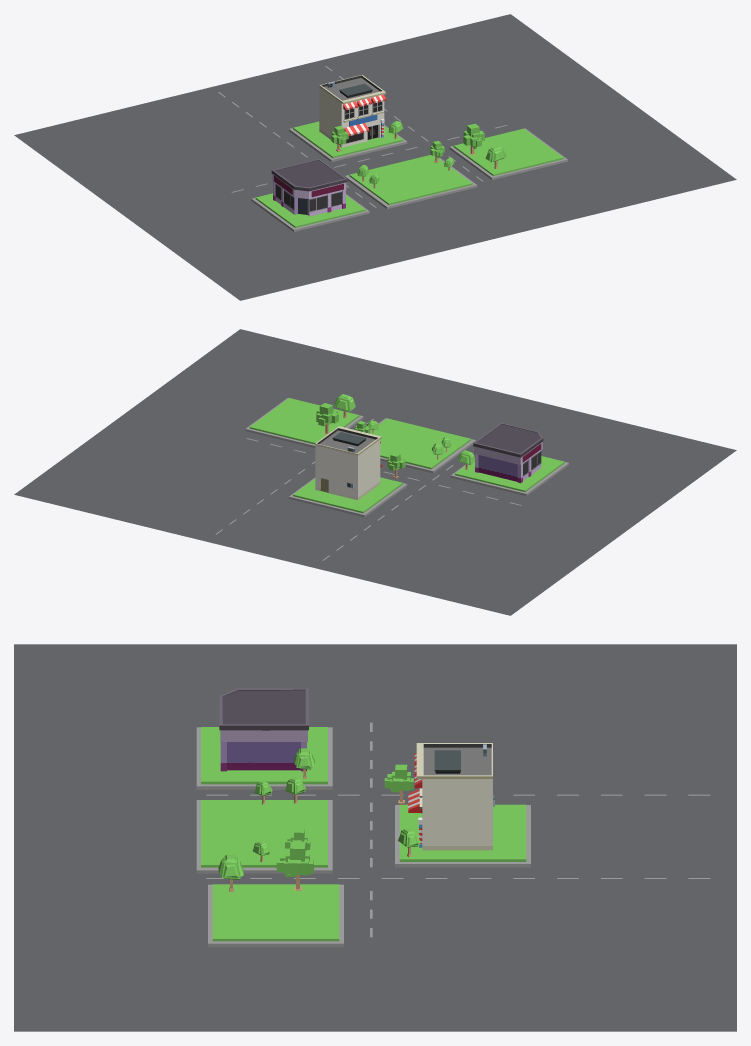
File: environment_around_diner.fbx
3 renders of one model, top to bottom at view 1: azimuth 30°, elevation 25°; view 2: azimuth 150°, elevation 25°; view 3: azimuth 270°, elevation 25°, orthographic. The views are drawn at different scales.
Visible parts, largest first — view 1: traffic_floor, block5, building7, building4, block9, block11, block6; view 2: traffic_floor, building7, building4, block5, block9, block11, block6; view 3: traffic_floor, block9, building7, block5, building4, block11, block6, tree5, tree6.
Boxes of the visible parts, box(x1,y1,x2,y2) form: traffic_floor: box(14, 14, 736, 300); block5: box(344, 155, 477, 209); building7: box(319, 75, 386, 147); building4: box(271, 158, 347, 216); block9: box(449, 128, 567, 179); block11: box(289, 121, 407, 161); block6: box(251, 193, 369, 231); traffic_floor: box(14, 329, 736, 615); building7: box(315, 426, 382, 500); building4: box(473, 422, 543, 483); block5: box(370, 418, 475, 473); block9: box(245, 398, 363, 447); block11: box(289, 477, 407, 517); block6: box(450, 456, 568, 495); traffic_floor: box(14, 644, 736, 1031); block9: box(208, 884, 343, 946); building7: box(408, 743, 494, 850); block5: box(196, 800, 332, 873); building4: box(219, 688, 308, 771); block11: box(395, 804, 530, 867); block6: box(196, 727, 332, 789); tree5: box(276, 842, 313, 890); tree6: box(384, 764, 413, 804).
Bounding box in the file's own units: 364 × 36.81 × 287.
6 materials, 2 textured.
